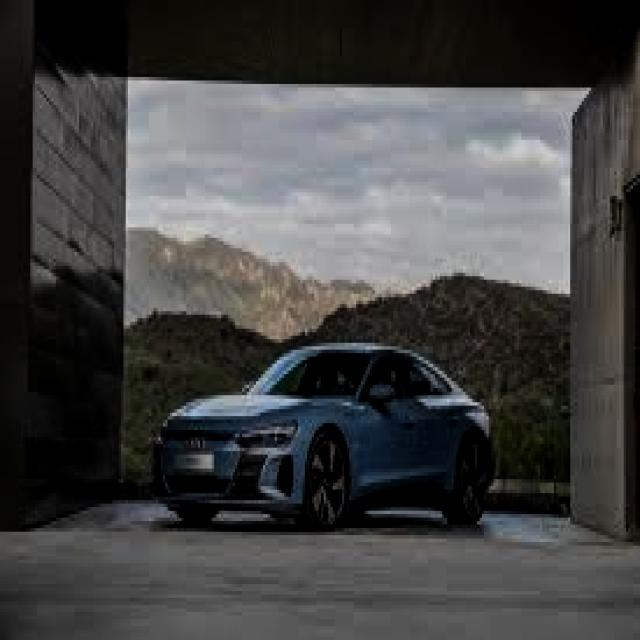blue: (136, 312, 484, 533)
